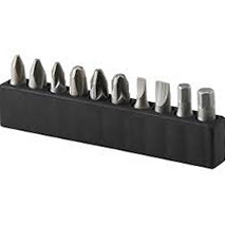screwdriver: (4, 46, 225, 124)
